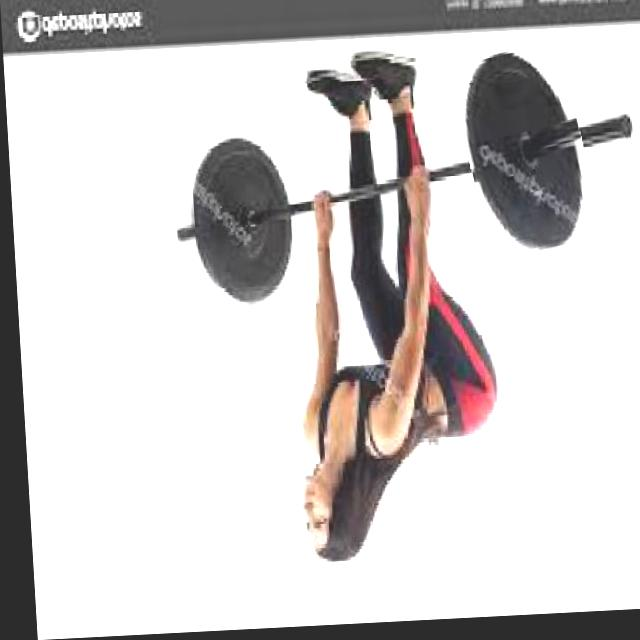barbell: (454, 45, 597, 281)
